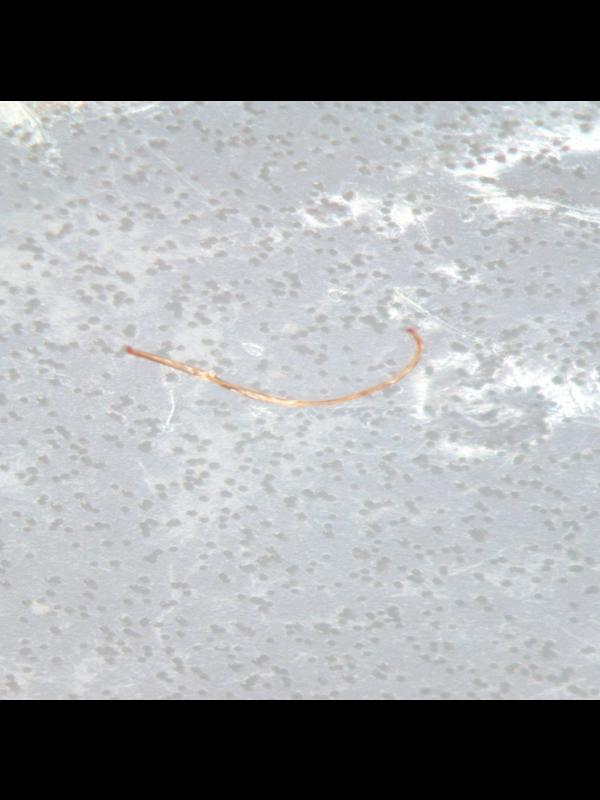microplastic: (0, 102, 600, 699), (123, 325, 425, 409)
